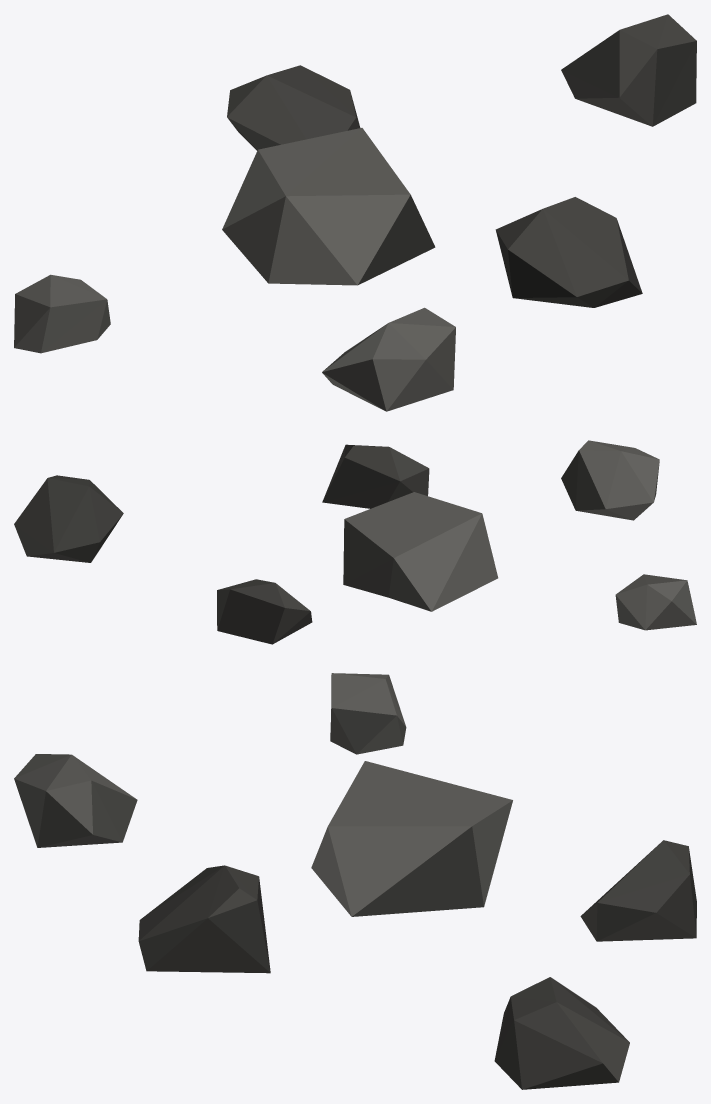
The model's file is pass_pebbles.gltf.
3 views of the same model, one above another, from view 1: azimuth 30°, elevation 25°; view 2: azimuth 150°, elevation 25°; view 3: azimuth 270°, elevation 25° (orthographic). The views are drawn at different scales.
Visible parts, largest first — view 1: pass_pebbles; view 2: pass_pebbles; view 3: pass_pebbles.
Part boxes in pixels (<box>): pass_pebbles: <box>14,14,696,411</box>; pass_pebbles: <box>14,440,696,644</box>; pass_pebbles: <box>14,673,696,1089</box>.
Bounding box in the file's own units: 0.4679 × 0.0471 × 0.347.
Materials: 1 (1 with a texture image).
